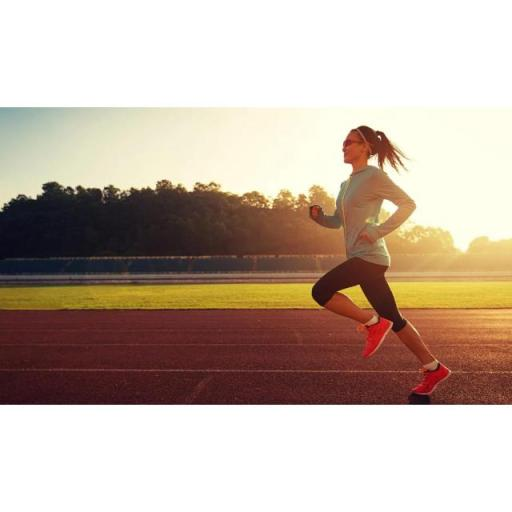Running: (310, 126, 450, 398)
